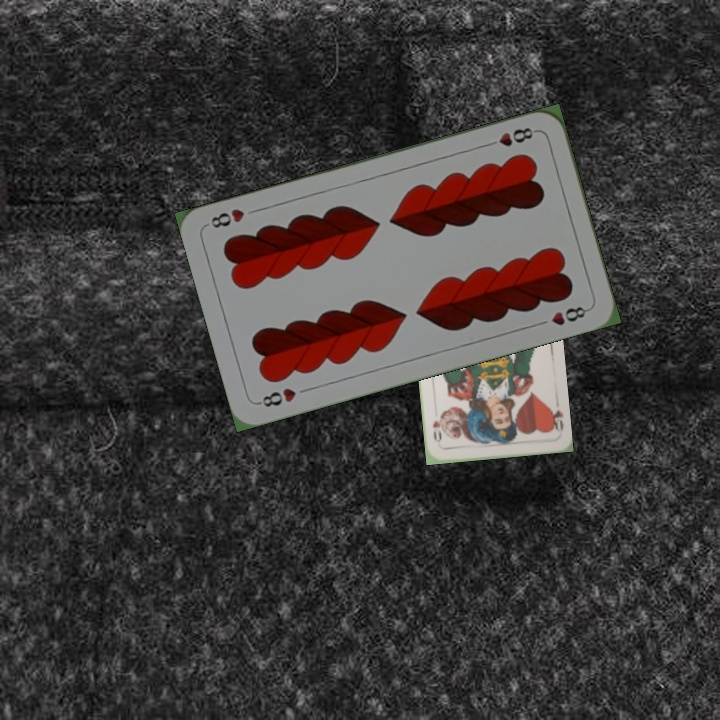H8: (482, 123, 540, 150), (254, 384, 298, 410)
HO: (545, 402, 566, 436)
